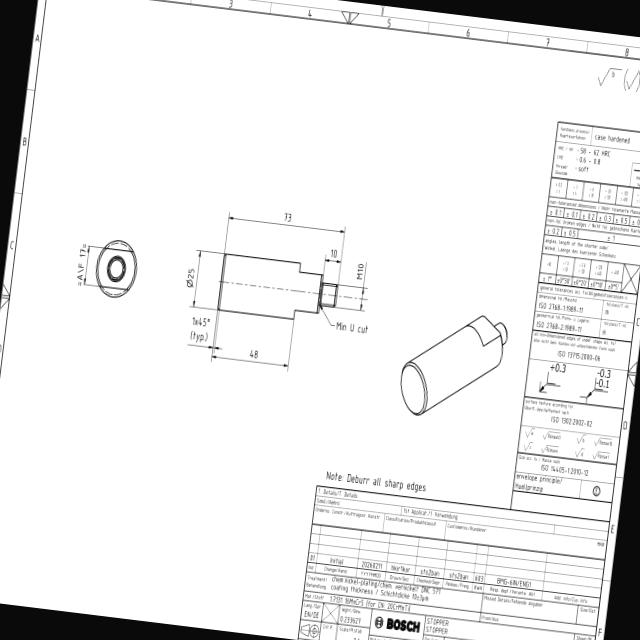dimension: (187, 313, 212, 344), (74, 241, 88, 287), (182, 266, 196, 290), (354, 260, 365, 282), (280, 208, 294, 222), (247, 346, 259, 360), (328, 246, 338, 259)
